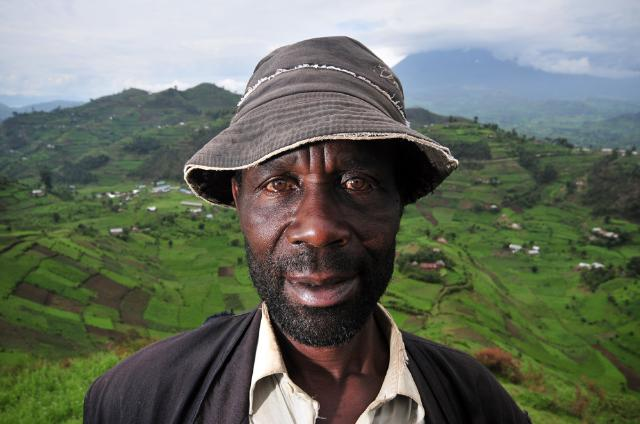frown_line: (303, 147, 329, 178)
gummy_smile: (270, 220, 286, 254)
